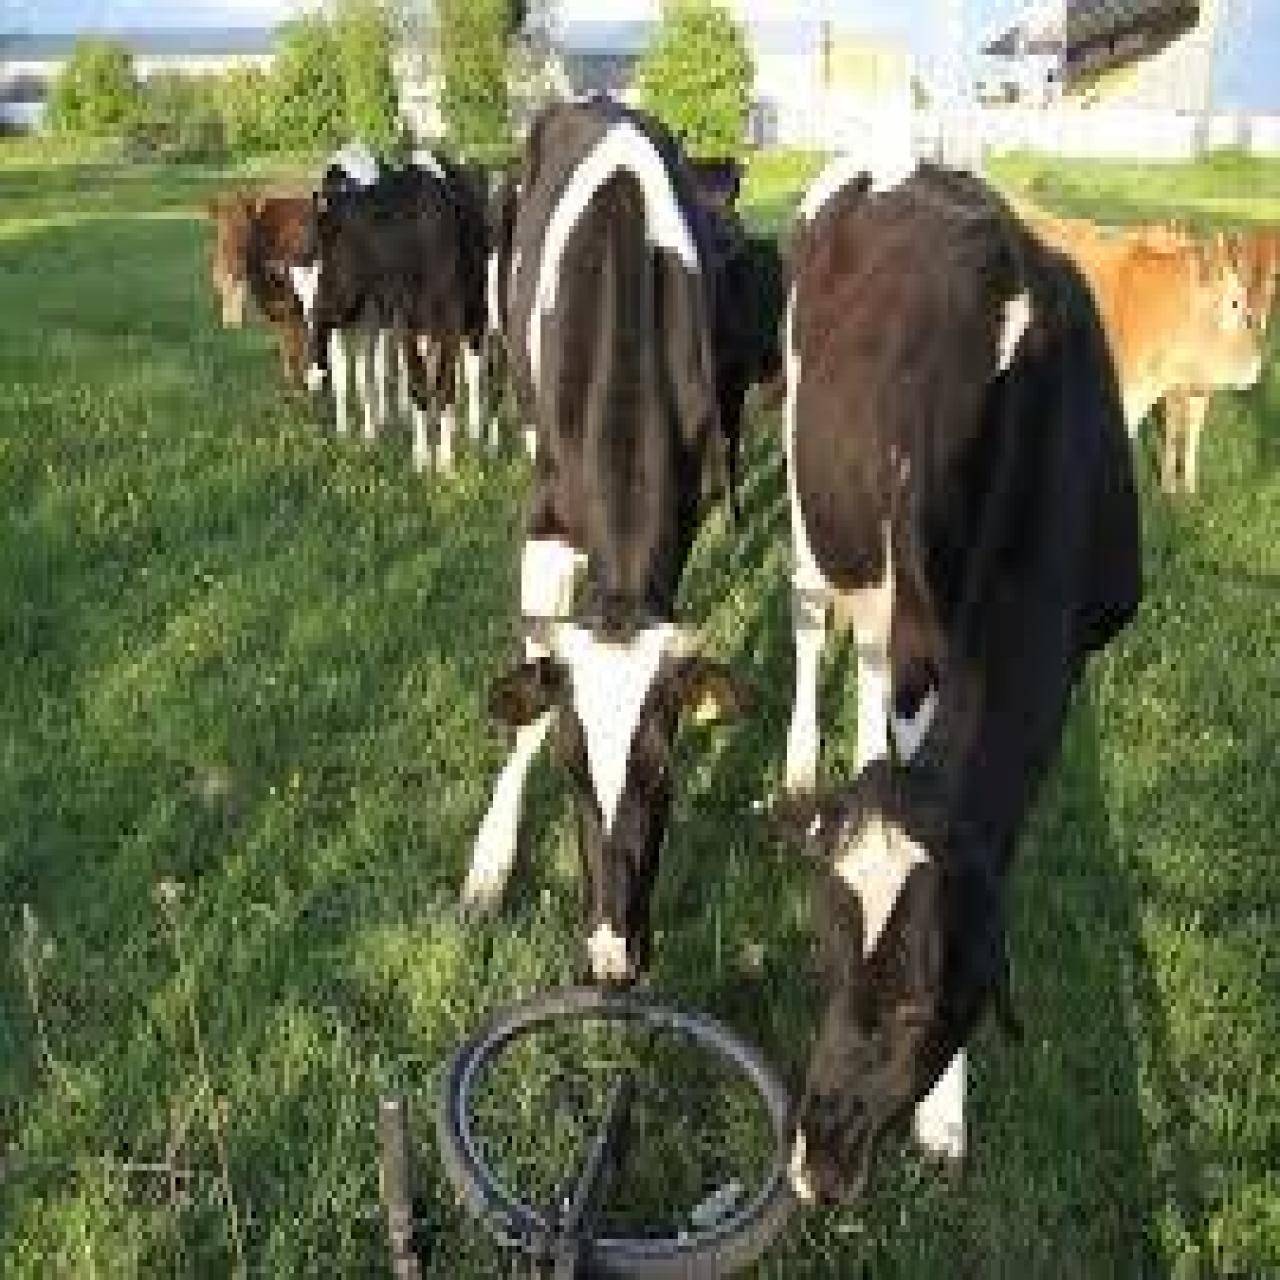cow: (761, 144, 1141, 1218), (457, 93, 761, 995), (983, 189, 1268, 435), (313, 144, 493, 479), (1114, 216, 1280, 496), (697, 223, 787, 531), (195, 182, 313, 380)
